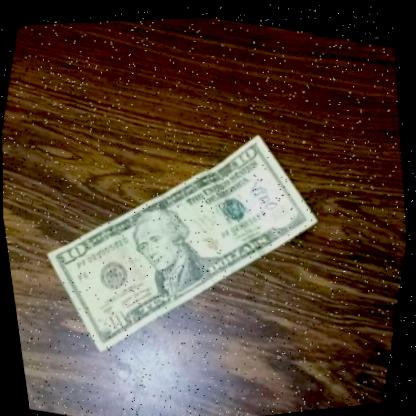ten-front: (2, 68, 366, 416)
